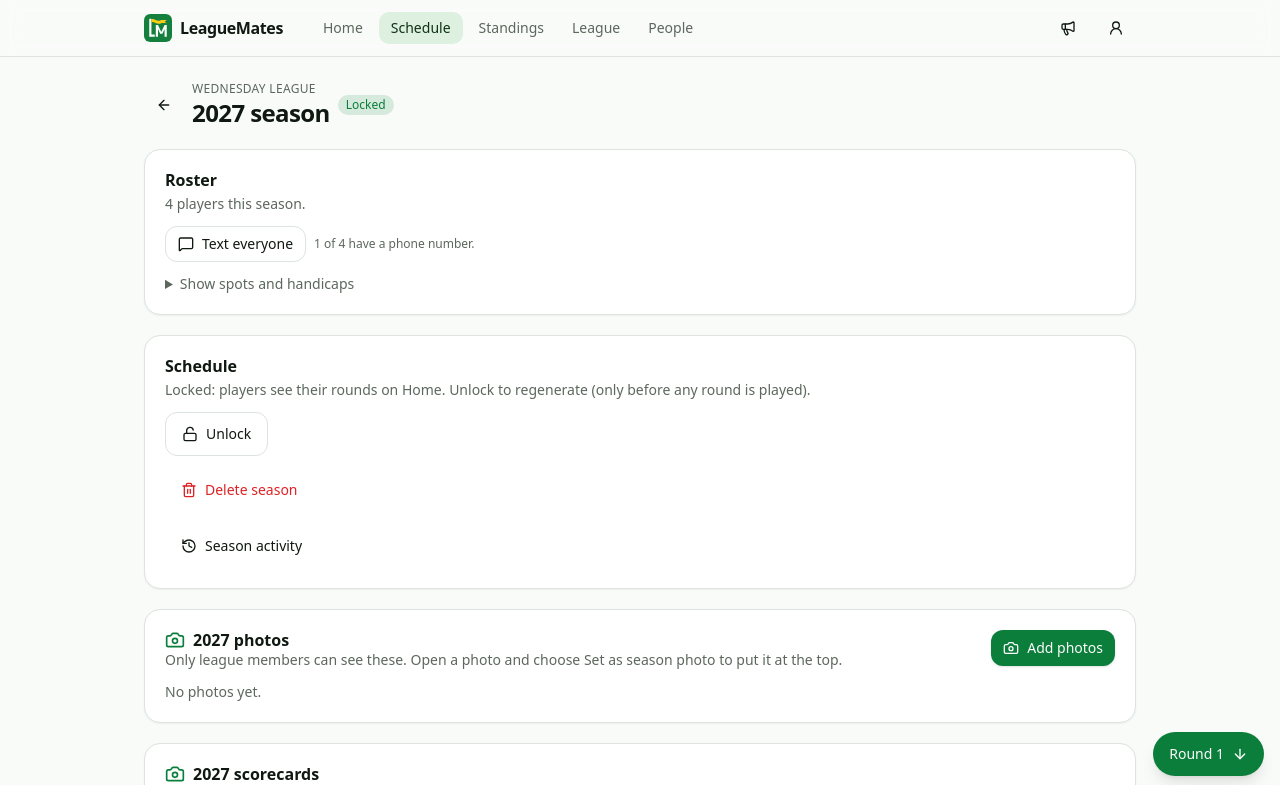
roster sign-in links › site admins email a player a link from the roster
This screenshot has width=1280, height=785.
What coordinates should you click on to do the following:
click the heading "Show spots and handicaps"
I would click on:
 (267, 284)
Its box is [180,274,354,293].
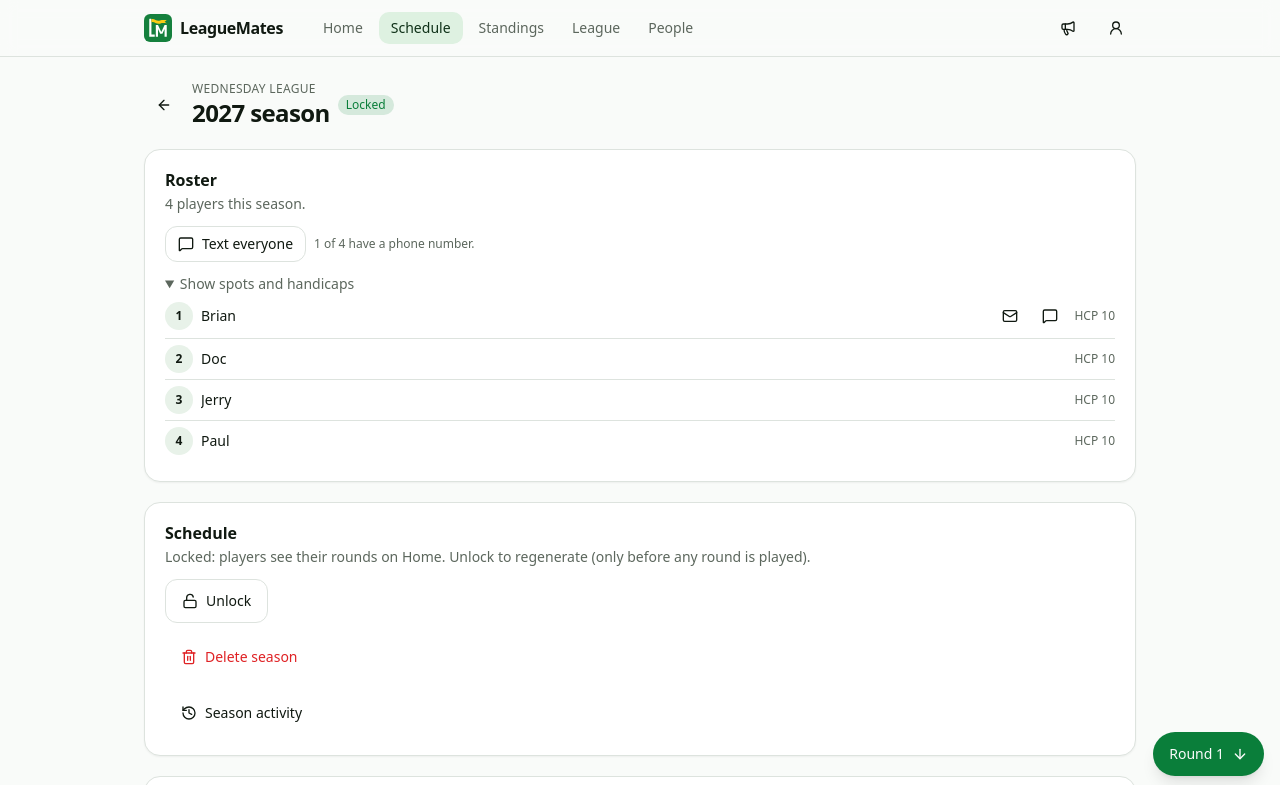
Result: the number of buttons named "Email Brian a sign-in link" is 1
What coordinates should you click on to do the following:
click the button named "Email Brian a sign-in link"
I would click on:
 (1010, 316)
Its box is [994,300,1026,332].
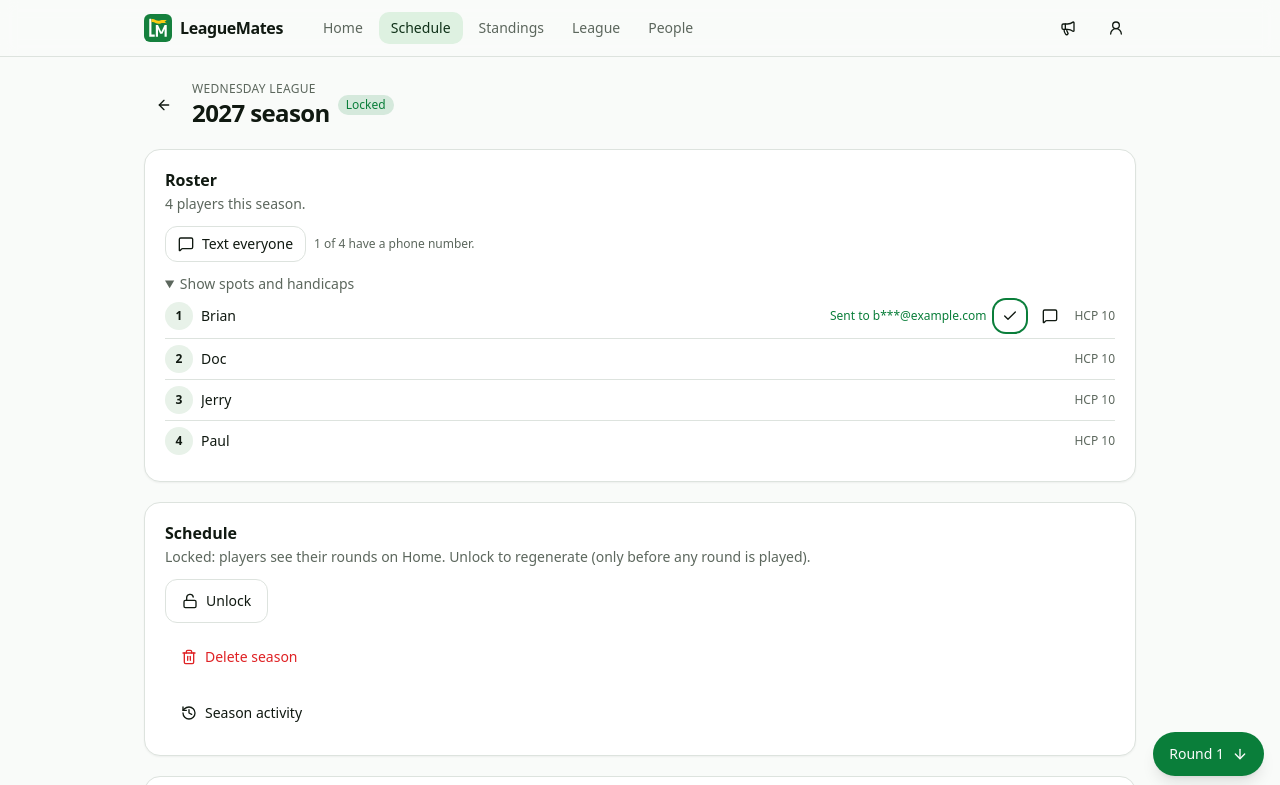
Result: the text "Sent to b***@example.com" is shown at [830,308,986,324]
